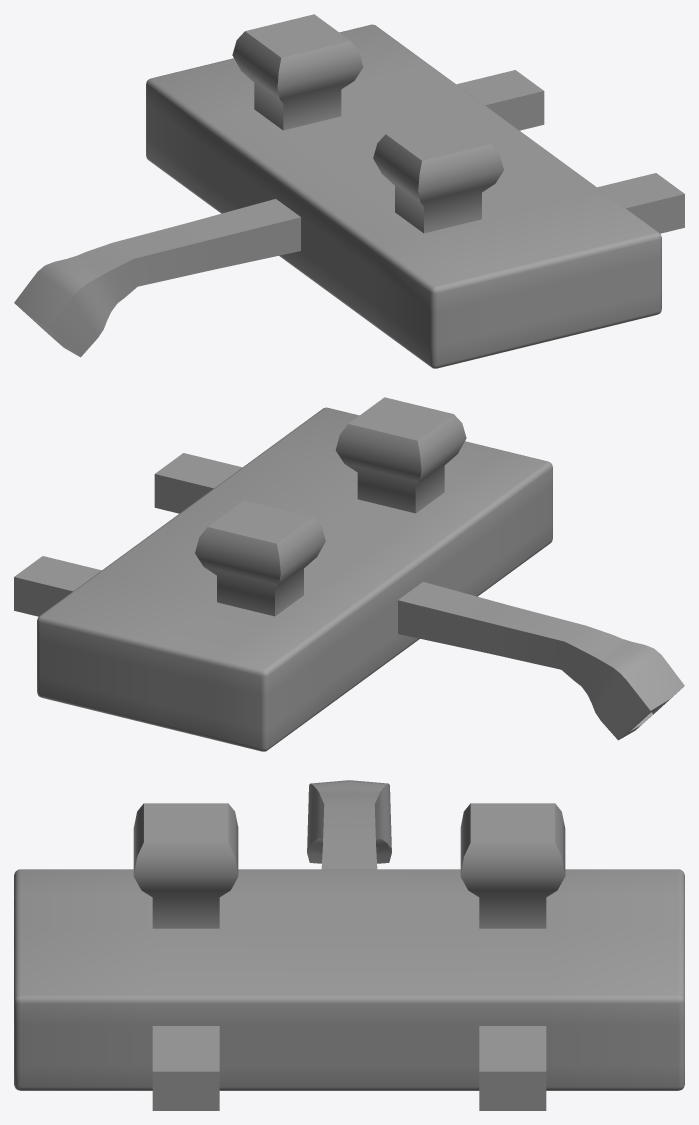
File: Tap.fbx
3 views of the same model, one above another, from view 1: azimuth 30°, elevation 25°; view 2: azimuth 150°, elevation 25°; view 3: azimuth 270°, elevation 25° (orthographic). The views are drawn at different scales.
Visible parts, largest first — view 1: Tap; view 2: Tap; view 3: Tap.
Part boxes in pixels (x1=…): Tap: x1=14, y1=14, x2=684, y2=368; Tap: x1=14, y1=397, x2=684, y2=751; Tap: x1=14, y1=780, x2=684, y2=1110.
Size of the model in its own units: 0.2483 by 0.2174 by 0.0771.
